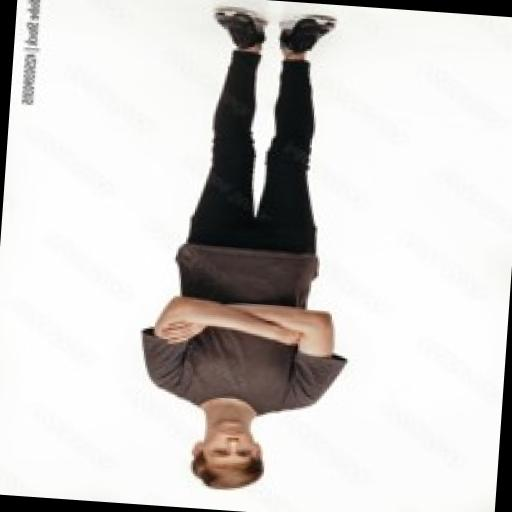human: (120, 0, 379, 510)
